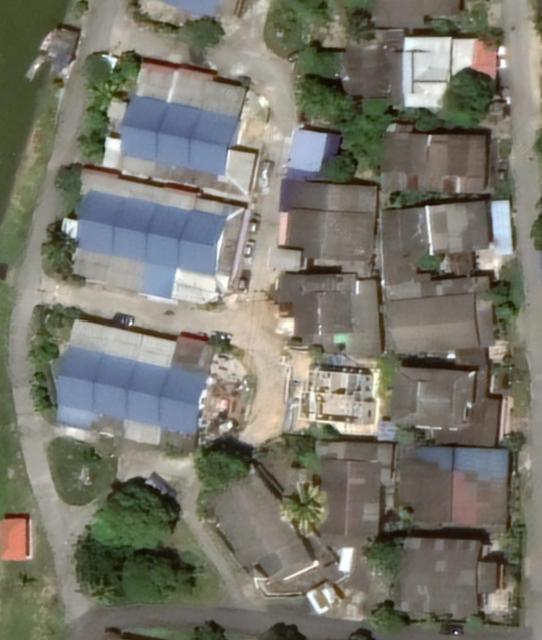building: (186, 456, 354, 622), (348, 531, 510, 632), (332, 24, 510, 115), (378, 193, 518, 284), (93, 51, 186, 184), (400, 442, 520, 539), (388, 360, 520, 448), (302, 435, 401, 552), (384, 270, 510, 360), (375, 118, 516, 198), (263, 271, 388, 361), (180, 72, 265, 201), (150, 60, 220, 191), (54, 161, 124, 292), (161, 327, 225, 460), (50, 312, 116, 433), (136, 184, 199, 308), (172, 195, 237, 309), (102, 176, 160, 302), (120, 326, 177, 451), (92, 323, 150, 440), (272, 207, 378, 269), (278, 176, 384, 212), (280, 120, 348, 176)
